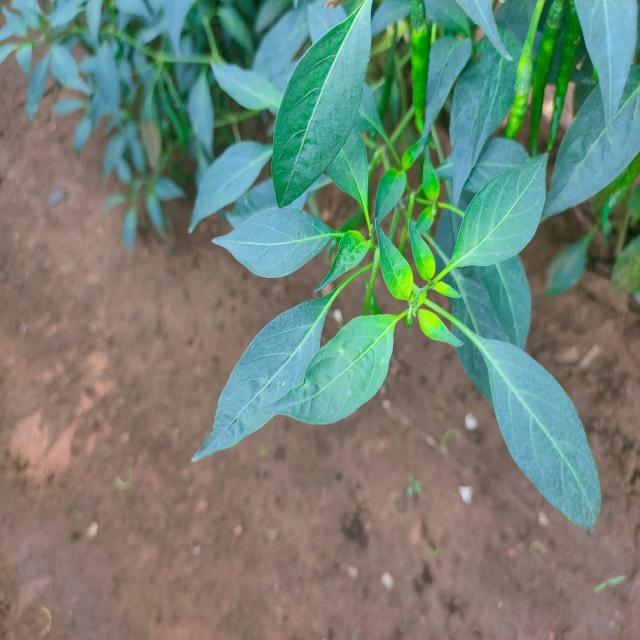Mosaic_virus: (0, 0, 640, 295), (194, 270, 604, 537)
